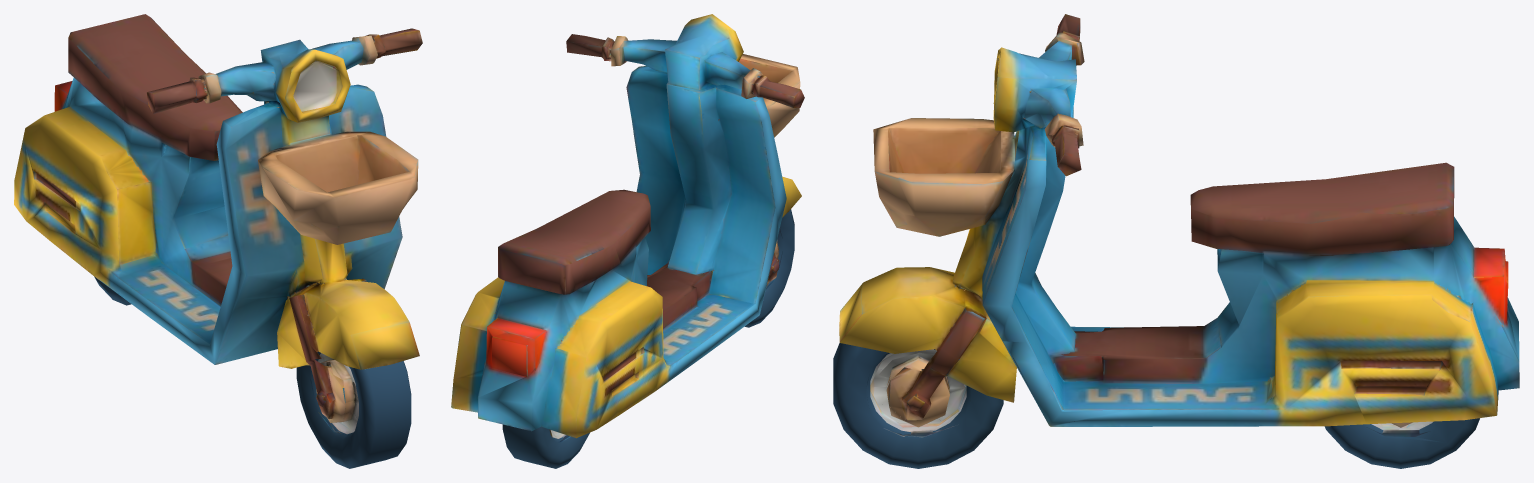
File: quackparty-scooter.glb
The picture shows the model from 3 angles, left to right: view 1: azimuth 30°, elevation 25°; view 2: azimuth 150°, elevation 25°; view 3: azimuth 270°, elevation 25°; orthographic projection. The views are drawn at different scales.
Parts seen in each view (by area): view 1: Chassis, FrontWheel; view 2: Chassis, RearWheel, FrontWheel; view 3: Chassis, FrontWheel, RearWheel.
Boxes of the visible parts, bbox=[...] form: Chassis: bbox=[14, 14, 422, 429]; FrontWheel: bbox=[296, 351, 411, 468]; Chassis: bbox=[451, 14, 804, 438]; RearWheel: bbox=[502, 424, 589, 468]; FrontWheel: bbox=[745, 209, 794, 327]; Chassis: bbox=[839, 14, 1519, 427]; FrontWheel: bbox=[833, 343, 1003, 468]; RearWheel: bbox=[1324, 418, 1479, 468].
Bounding box in the file's own units: 0.8133 × 1.11 × 1.68.
Materials: 1 (1 with a texture image).
